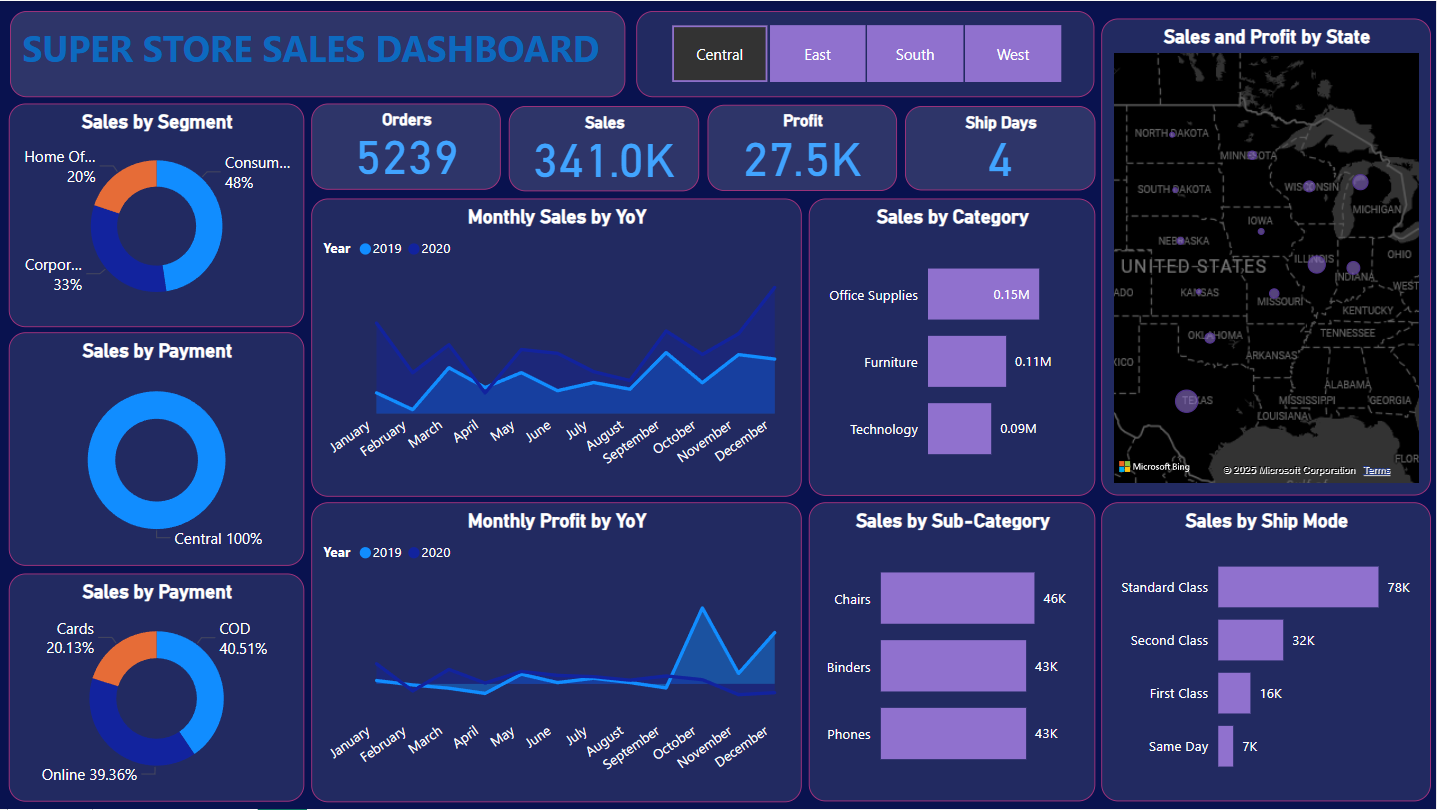

The page's visual inventory and layout, read from the dashboard file:
{"tool":"powerbi","page":{"name":"Main","canvas":[1280,720],"ordinal":0},"visuals":[{"type":"clusteredBarChart","title":"Sales by Category","fields":{"Category":["SuperStore_Sales_Dataset.Category"],"Y":["Sum(SuperStore_Sales_Dataset.Sales)"]},"box":[720,176,255,265],"z":0},{"type":"clusteredBarChart","title":"Sales by Sub-Category ","fields":{"Category":["SuperStore_Sales_Dataset.Sub-Category"],"Y":["Sum(SuperStore_Sales_Dataset.Sales)"]},"box":[720,446.2,255,266.2],"z":1000},{"type":"clusteredBarChart","title":"Sales by Ship Mode","fields":{"Category":["SuperStore_Sales_Dataset.Ship Mode"],"Y":["Sum(SuperStore_Sales_Dataset.Sales)"]},"box":[980.8,445.8,293.3,266.7],"z":2000},{"type":"areaChart","title":"Monthly Sales by YoY","fields":{"Y":["Sum(SuperStore_Sales_Dataset.Sales)"],"Category":["SuperStore_Sales_Dataset.Order Date.Variation.Date Hierarchy.Month"],"Series":["SuperStore_Sales_Dataset.Order Date.Variation.Date Hierarchy.Year"]},"box":[277.6,175.9,436.5,265.3],"z":3000},{"type":"areaChart","title":"Monthly Profit by YoY","fields":{"Category":["SuperStore_Sales_Dataset.Order Date.Variation.Date Hierarchy.Month"],"Series":["SuperStore_Sales_Dataset.Order Date.Variation.Date Hierarchy.Year"],"Y":["Sum(SuperStore_Sales_Dataset.Profit)"]},"box":[277.6,445.9,436.5,267.1],"z":4000},{"type":"map","title":"Sales and Profit by State","fields":{"Category":["SuperStore_Sales_Dataset.State"],"Size":["Sum(SuperStore_Sales_Dataset.Sales)"]},"box":[980.6,15.9,293.5,424.7],"z":5000},{"type":"donutChart","title":"Sales by Segment","fields":{"Category":["SuperStore_Sales_Dataset.Segment"],"Y":["Sum(SuperStore_Sales_Dataset.Sales)"]},"box":[8.2,91.8,262.9,198.8],"z":6000},{"type":"donutChart","title":"Sales by Payment","fields":{"Category":["SuperStore_Sales_Dataset.Payment Mode"],"Y":["Sum(SuperStore_Sales_Dataset.Sales)"]},"box":[8.2,510,262.9,202.9],"z":7000},{"type":"slicer","fields":{"Values":["SuperStore_Sales_Dataset.Region"]},"box":[566.7,8.9,407.8,76.7],"z":8000},{"type":"textbox","box":[8.9,8.9,547.8,76.7],"z":9000},{"type":"card","title":"Orders","fields":{"Values":["Sum(SuperStore_Sales_Dataset.Quantity)"]},"box":[277.5,91.7,169,76.7],"z":10000},{"type":"donutChart","title":"Sales by Payment","fields":{"Category":["SuperStore_Sales_Dataset.Region"],"Y":["Sum(SuperStore_Sales_Dataset.Sales)"]},"box":[8.2,295.3,262.9,208.2],"z":11000},{"type":"card","title":"Sales","fields":{"Values":["Sum(SuperStore_Sales_Dataset.Sales)"]},"box":[453.1,93.1,169.4,76.2],"z":12000},{"type":"card","title":"Profit","fields":{"Values":["Sum(SuperStore_Sales_Dataset.Profit)"]},"box":[630,92.1,168.6,77.1],"z":13000},{"type":"card","title":"Ship Days","fields":{"Values":["Avg(SuperStore_Sales_Dataset.Avg_Delivery)"]},"box":[805.6,93.1,169.4,75],"z":14000}]}

Visuals, with their boxes in screenshot pixels (x1, y1, x2, y2), scaled from the page's 1280x720 canvas onto the 1437x810 screenshot:
"Sales by Category" clusteredBarChart: {"left": 808, "top": 198, "right": 1095, "bottom": 496}
"Sales by Sub-Category " clusteredBarChart: {"left": 808, "top": 502, "right": 1095, "bottom": 801}
"Sales by Ship Mode" clusteredBarChart: {"left": 1101, "top": 502, "right": 1430, "bottom": 802}
"Monthly Sales by YoY" areaChart: {"left": 312, "top": 198, "right": 802, "bottom": 496}
"Monthly Profit by YoY" areaChart: {"left": 312, "top": 502, "right": 802, "bottom": 802}
"Sales and Profit by State" map: {"left": 1101, "top": 18, "right": 1430, "bottom": 496}
"Sales by Segment" donutChart: {"left": 9, "top": 103, "right": 304, "bottom": 327}
"Sales by Payment" donutChart: {"left": 9, "top": 574, "right": 304, "bottom": 802}
slicer - SuperStore_Sales_Dataset.Region: {"left": 636, "top": 10, "right": 1094, "bottom": 96}
textbox: {"left": 10, "top": 10, "right": 625, "bottom": 96}
"Orders" card: {"left": 312, "top": 103, "right": 501, "bottom": 189}
"Sales by Payment" donutChart: {"left": 9, "top": 332, "right": 304, "bottom": 566}
"Sales" card: {"left": 509, "top": 105, "right": 699, "bottom": 190}
"Profit" card: {"left": 707, "top": 104, "right": 897, "bottom": 190}
"Ship Days" card: {"left": 904, "top": 105, "right": 1095, "bottom": 189}
